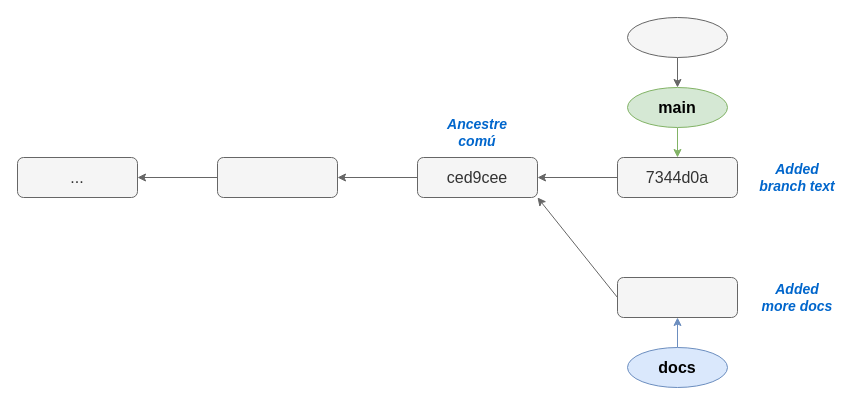
Some shapes in this 855 by 405 pixel diagram are drawn without their labels. Here are the shapes that lost their labels. From the top down, the centre of each, then its label:
At point 677,37: "HEAD".
At point 277,177: "bdbfcb2".
At point 677,297: "8c00eae".
